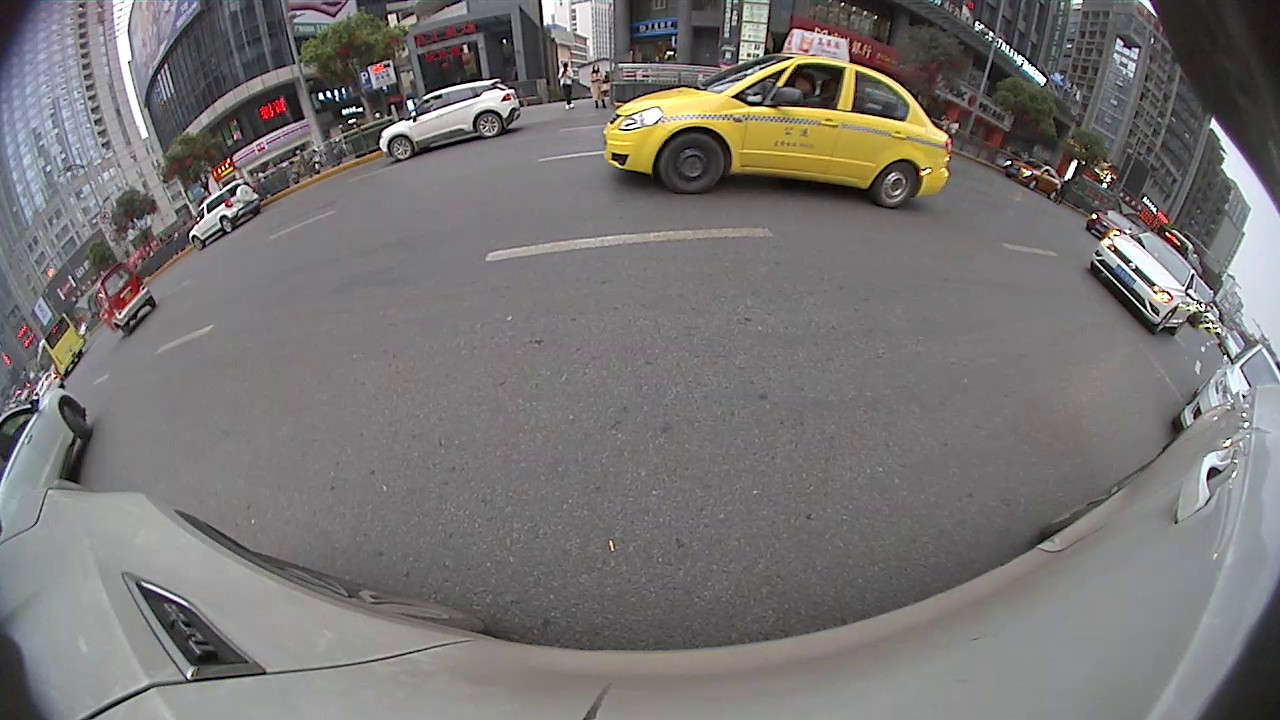car: (600, 26, 955, 209), (1088, 225, 1200, 341), (378, 76, 523, 163), (1, 390, 93, 499), (1168, 343, 1279, 433), (185, 177, 265, 252)
front: (661, 134, 726, 193), (388, 135, 412, 162), (192, 235, 207, 252)
rear: (873, 161, 917, 210), (475, 111, 502, 140), (218, 216, 236, 235)
rider: (91, 259, 158, 337)
